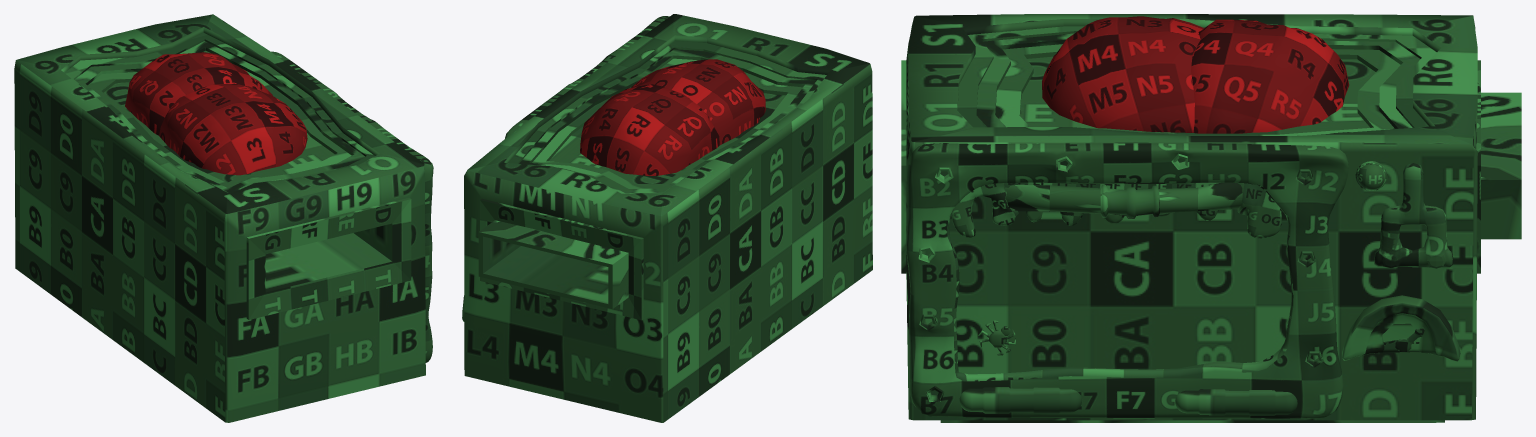
Rendered from red brain.fbx.
3 views of the same model, side by side, from view 1: azimuth 30°, elevation 25°; view 2: azimuth 150°, elevation 25°; view 3: azimuth 270°, elevation 25° (orthographic). The views are drawn at different scales.
Visible parts, largest first — view 1: box, brain, Face6; view 2: box, brain, Face6; view 3: box, Face6, brain, pCylinder1, oven_thing, face_goop, leaver, hinge1, hinge, light.
Boxes of the visible parts, x1,y1,x2,y2 form: box: (14, 14, 425, 422); brain: (125, 52, 307, 175); Face6: (271, 51, 433, 362); box: (464, 14, 872, 422); brain: (580, 59, 765, 175); Face6: (505, 16, 669, 138); box: (901, 14, 1521, 422); Face6: (906, 143, 1348, 418); brain: (1042, 16, 1349, 133); pCylinder1: (1005, 182, 1242, 218); oven_thing: (1342, 295, 1460, 361); face_goop: (951, 182, 1281, 238); leaver: (1374, 163, 1453, 268); hinge1: (959, 386, 1081, 413); hinge: (1175, 389, 1297, 415); light: (1355, 161, 1386, 190).
Size of the model in its own units: 1.27 by 1.31 by 2.23.
2 materials, 2 textured.
